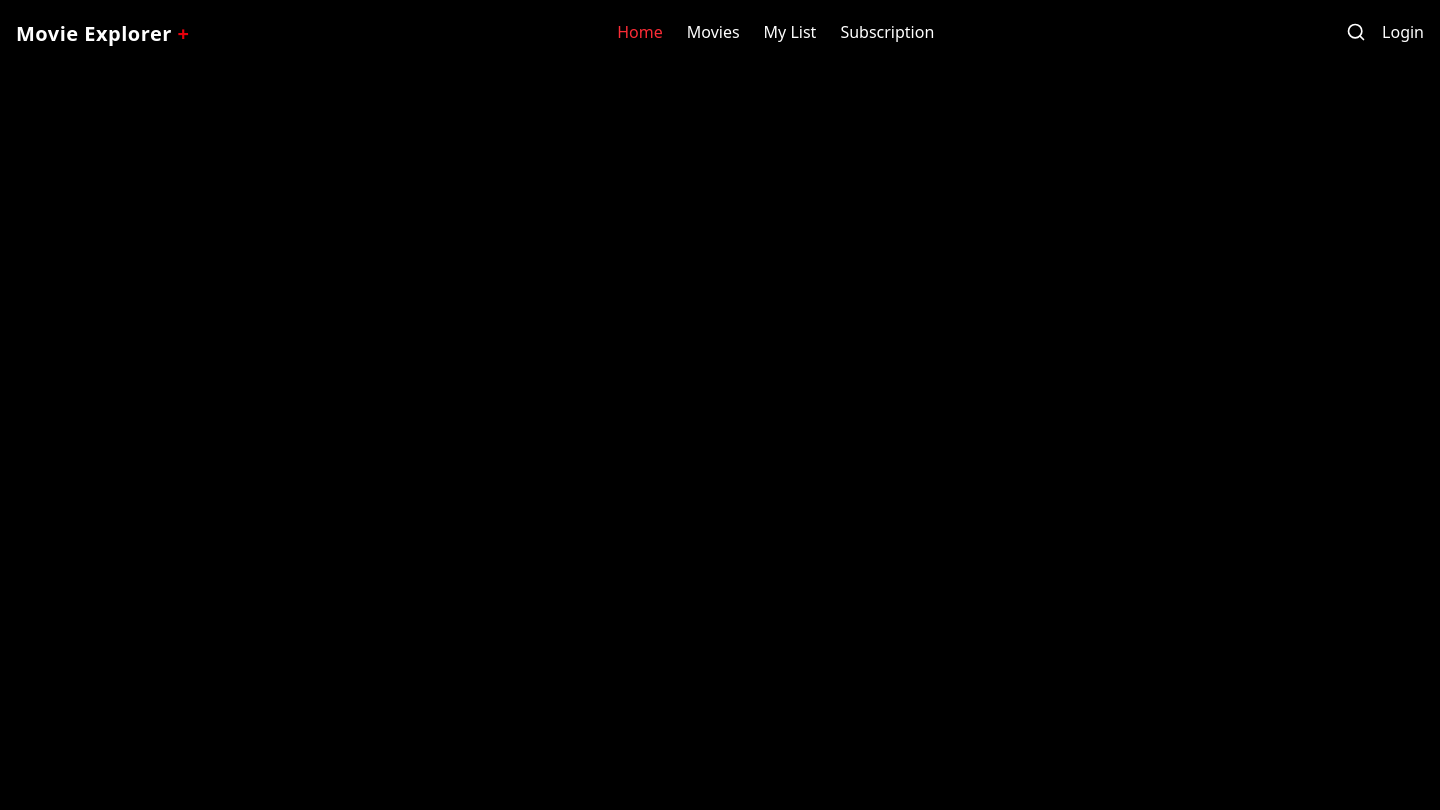
Test: Header Component › closes search on outside click
Click the icon named "search": (1356, 32) [1346,22,1366,42]
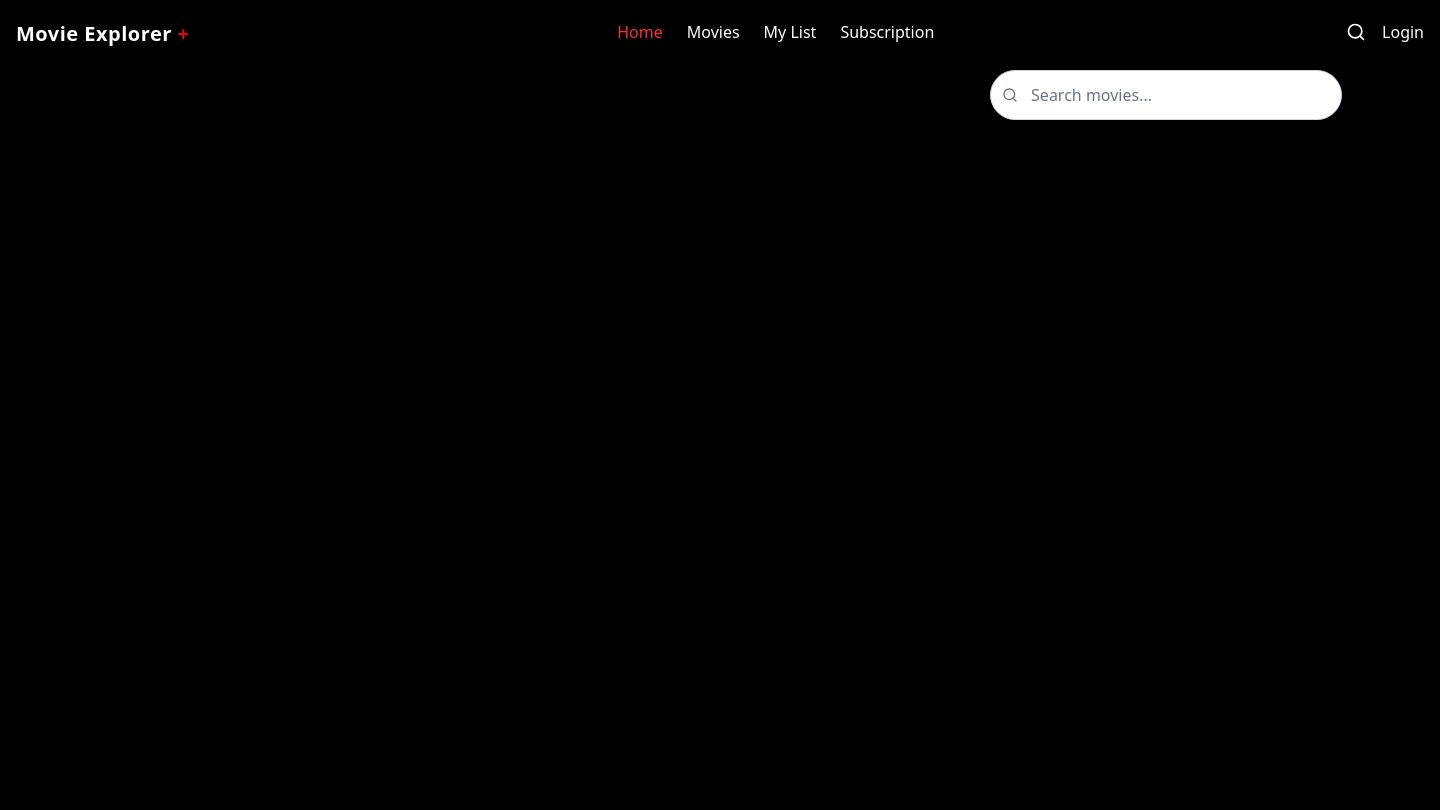
expect the field with test id "search-input" is shown: met, box [990,70,1342,120]
Press the mouse on the element showing "Movie Explorer + Home Movies My List Subscription Login": (720, 405) [0,0,1439,809]
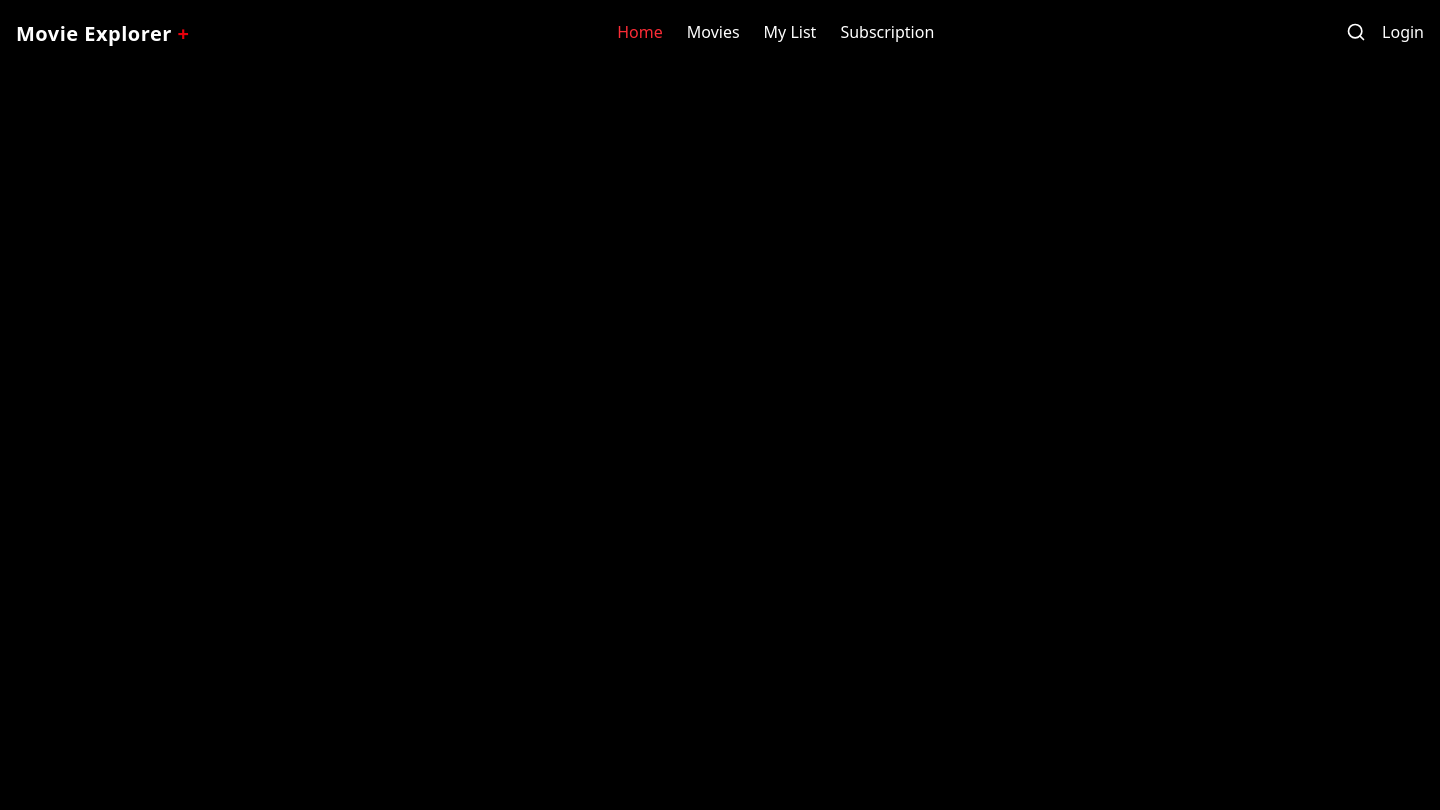
expect the field with test id "search-input" is gone: met
